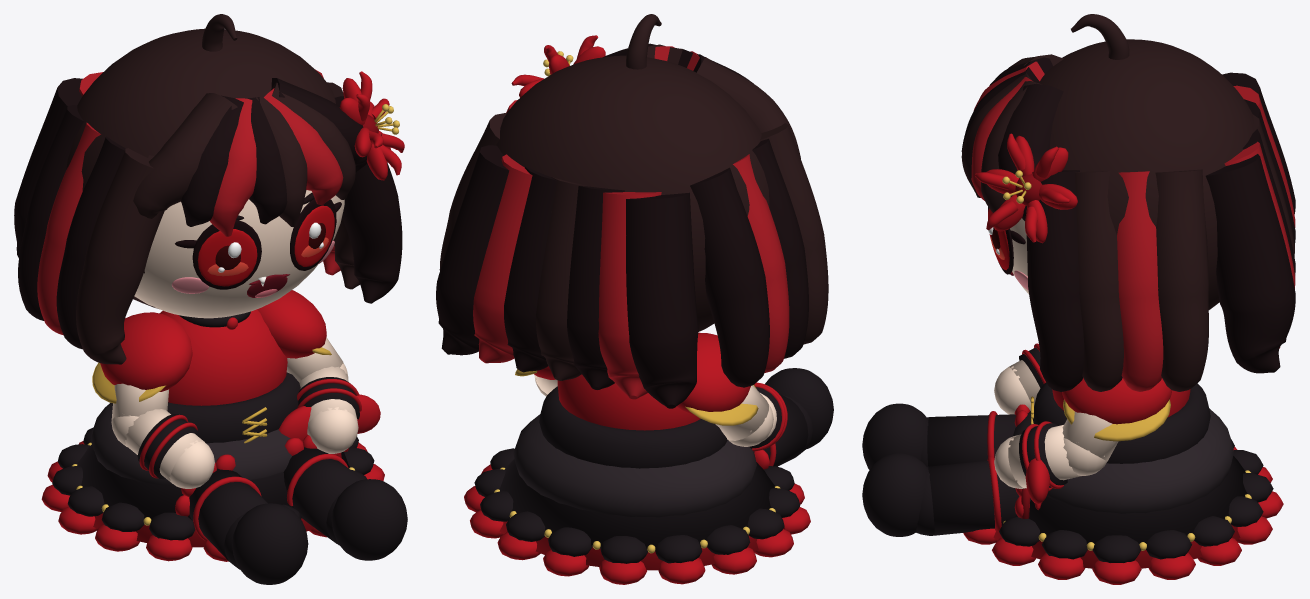
The model's file is theraidenlena-plush.glb.
3 views of the same model, side by side, from view 1: azimuth 30°, elevation 25°; view 2: azimuth 150°, elevation 25°; view 3: azimuth 270°, elevation 25° (orthographic). The views are drawn at different scales.
Visible parts, largest first — view 1: TheraidenlenaPlush; view 2: TheraidenlenaPlush; view 3: TheraidenlenaPlush.
Part boxes in pixels (x1,y1,x2,y2): TheraidenlenaPlush: [14, 14, 407, 584]; TheraidenlenaPlush: [436, 14, 833, 584]; TheraidenlenaPlush: [862, 14, 1295, 584].
Size of the model in its own units: 0.3343 by 0.4911 by 0.3846.
